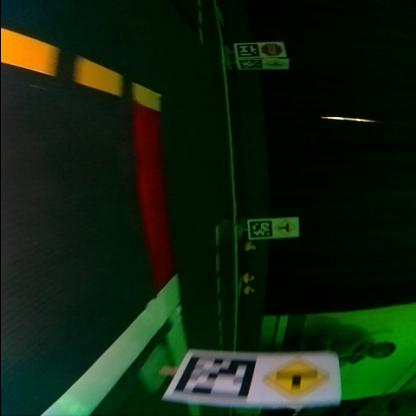Duckie: (244, 272, 254, 282), (244, 287, 254, 293), (248, 242, 256, 249)
Intersection sign: (262, 354, 336, 401), (274, 219, 296, 237), (265, 59, 286, 68)
QR code: (174, 353, 254, 400), (249, 219, 271, 238), (237, 43, 259, 56), (240, 60, 262, 69)
Stop sign: (262, 42, 284, 56)
